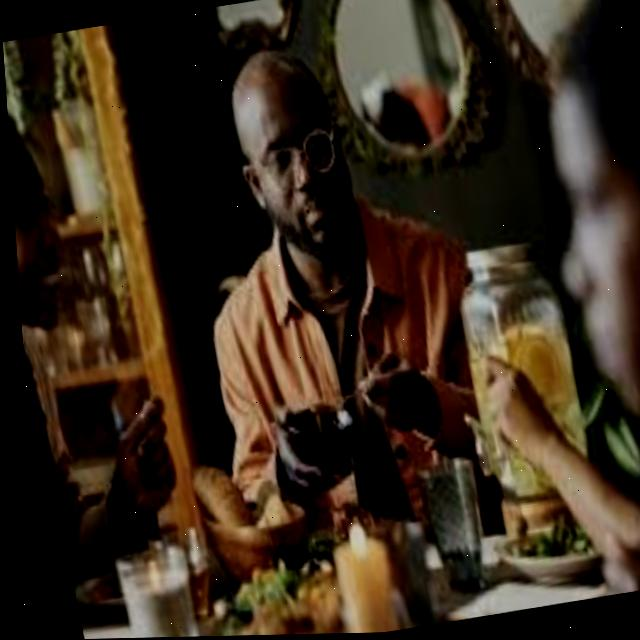eating-person: (112, 14, 542, 606), (3, 46, 222, 640)
